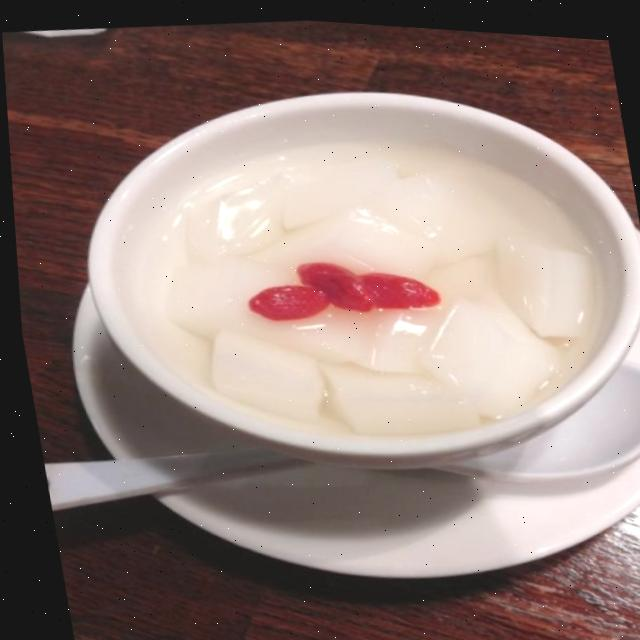熟制海鲜: (9, 175, 260, 516)
